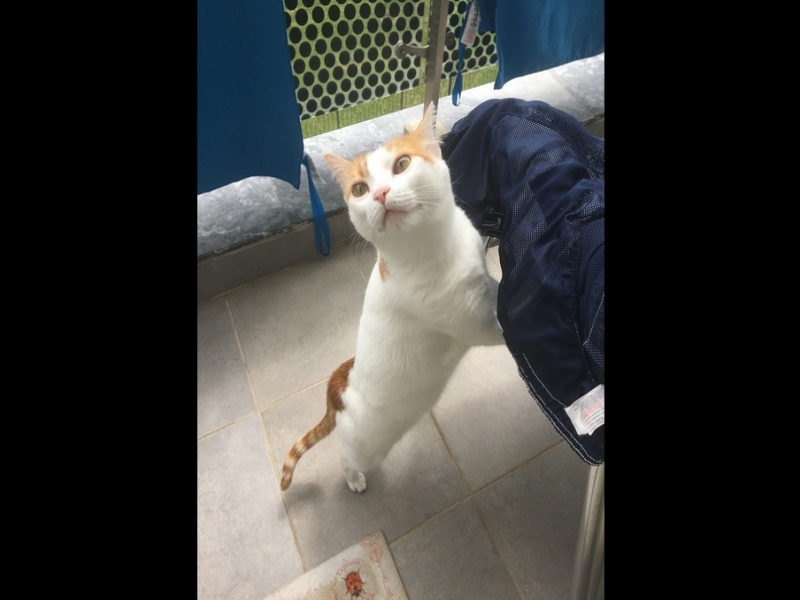cat: (279, 98, 522, 518)
